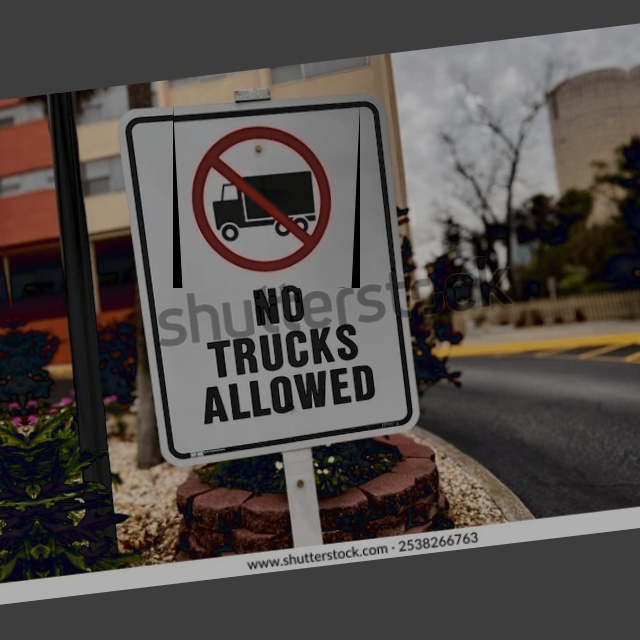Truck_Prohibited: (173, 105, 360, 288)
